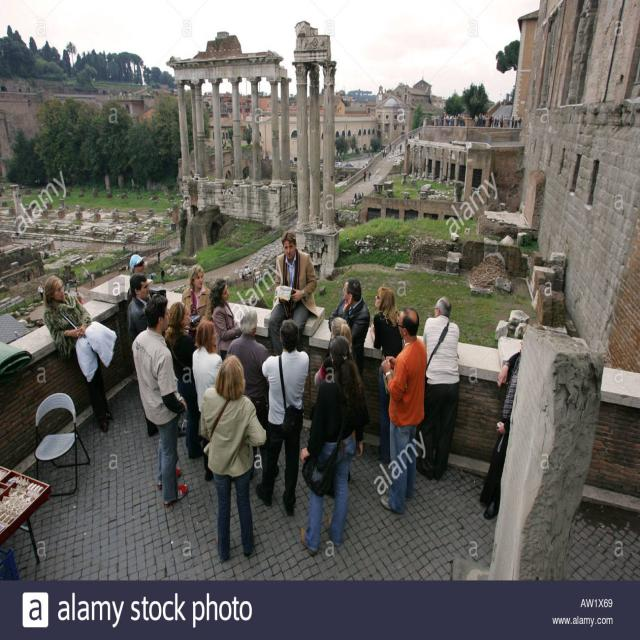body: (298, 334, 367, 558), (198, 354, 267, 564), (130, 291, 190, 508), (41, 273, 118, 435), (254, 318, 310, 517), (378, 306, 429, 515), (224, 307, 280, 480), (479, 330, 527, 522), (419, 296, 462, 482), (369, 285, 407, 465), (163, 300, 205, 460), (268, 229, 318, 355), (192, 320, 224, 483), (327, 276, 371, 381), (314, 316, 355, 389), (208, 276, 242, 364), (180, 264, 212, 341), (126, 273, 150, 345), (125, 253, 152, 304), (434, 110, 466, 127), (240, 261, 253, 279), (352, 189, 368, 203), (476, 111, 488, 129), (64, 274, 72, 292), (71, 276, 79, 292), (160, 266, 166, 284), (38, 284, 44, 301), (148, 271, 154, 285), (391, 143, 397, 156), (502, 116, 508, 128), (506, 115, 511, 128), (493, 115, 498, 128), (517, 117, 522, 129), (157, 250, 162, 262), (499, 114, 503, 128), (496, 115, 500, 129), (491, 115, 495, 129), (488, 114, 492, 128), (474, 114, 478, 128), (91, 272, 95, 286), (367, 169, 371, 181), (510, 116, 514, 128), (383, 148, 387, 158), (408, 132, 412, 142), (382, 147, 385, 159), (388, 142, 392, 151), (363, 171, 366, 182), (399, 143, 402, 152), (412, 132, 415, 140)
